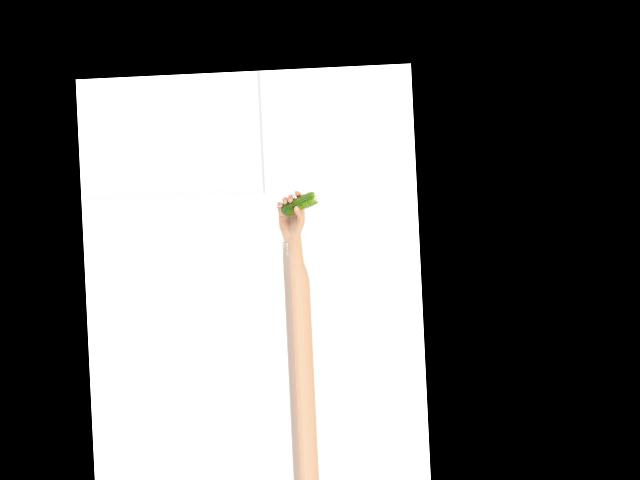cucumber: (279, 192, 318, 215)
